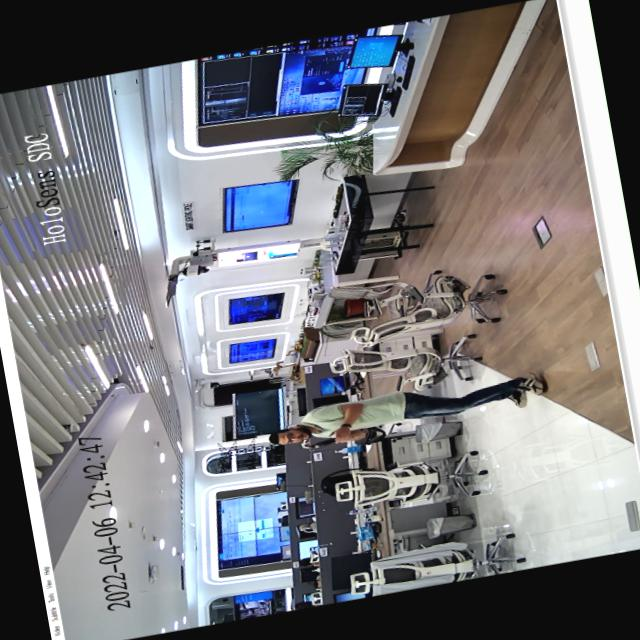long weapon: (294, 422, 378, 454)
